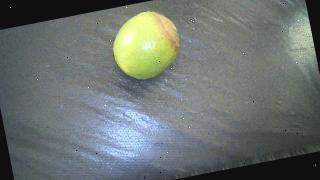DESECHO: (107, 6, 185, 84)
